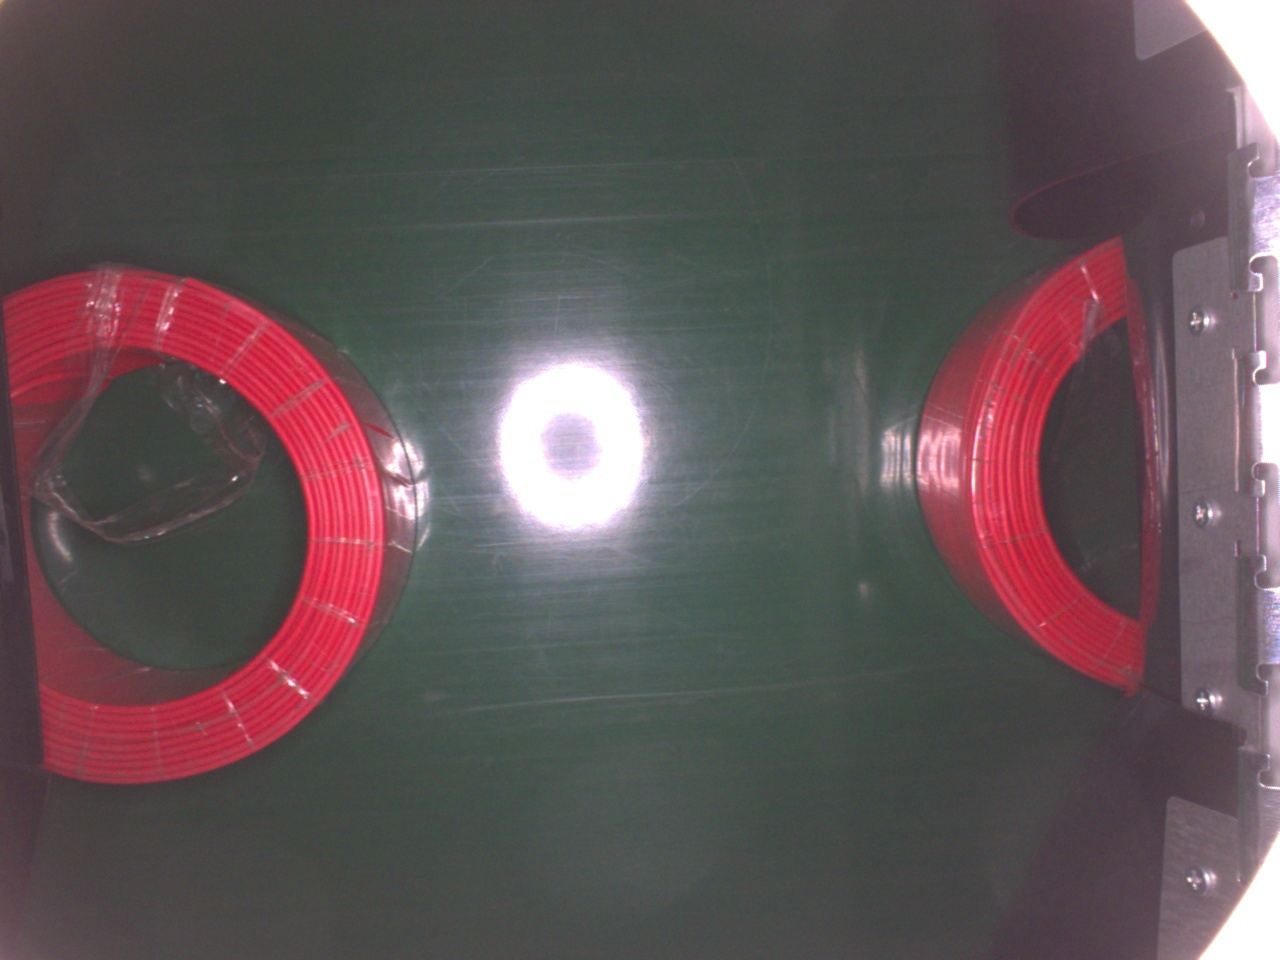red: (0, 258, 417, 785), (914, 232, 1146, 696)
